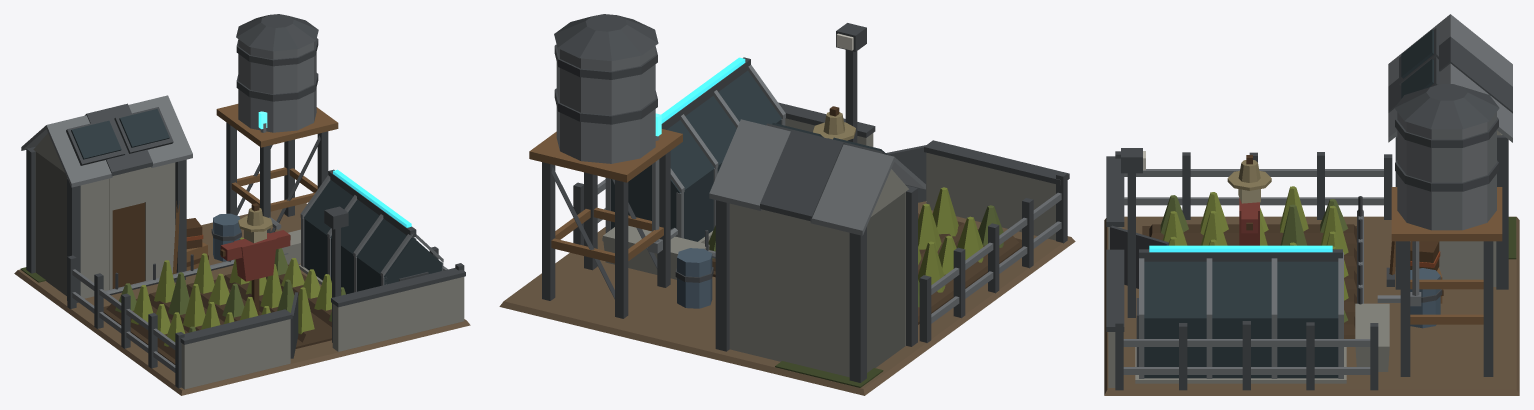
The model's file is farm_l3.glb.
3 renders of one model, left to right at view 1: azimuth 30°, elevation 25°; view 2: azimuth 150°, elevation 25°; view 3: azimuth 270°, elevation 25°, orthographic. The views are drawn at different scales.
Visible parts, largest first — view 1: farm_props, farm_structure, farm_roof; view 2: farm_structure, farm_props, farm_roof; view 3: farm_structure, farm_props, farm_roof.
Boxes of the visible parts, <box> form: farm_props: <box>67,14,465,389</box>; farm_structure: <box>14,104,470,395</box>; farm_roof: <box>21,95,443,277</box>; farm_structure: <box>499,70,1075,395</box>; farm_props: <box>554,14,1069,342</box>; farm_roof: <box>661,57,925,235</box>; farm_structure: <box>1104,130,1519,395</box>; farm_props: <box>1106,84,1499,390</box>; farm_roof: <box>1139,14,1512,318</box>.
Size of the model in its own units: 6 by 4.3 by 6.
